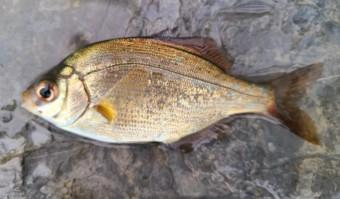fish: (21, 37, 322, 145)
